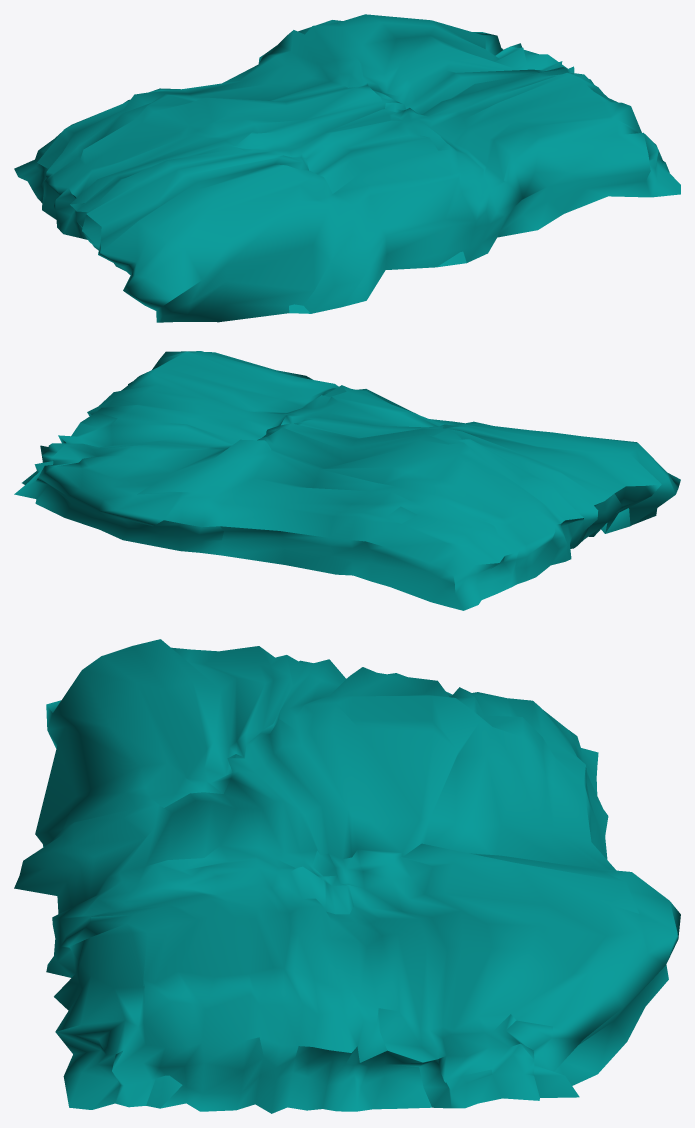
File: fol_rock_03_uv.fbx
The picture shows the model from 3 angles, top to bottom: view 1: azimuth 30°, elevation 25°; view 2: azimuth 150°, elevation 25°; view 3: azimuth 270°, elevation 25°; orthographic projection. The views are drawn at different scales.
Parts seen in each view (by area): view 1: fol_rock_03_uv; view 2: fol_rock_03_uv; view 3: fol_rock_03_uv.
Part boxes in pixels (left/top/right/bottom): fol_rock_03_uv: left=14, top=14, right=680, bottom=322; fol_rock_03_uv: left=14, top=351, right=680, bottom=610; fol_rock_03_uv: left=14, top=639, right=680, bottom=1113.
Size of the model in its own units: 17.43 by 3.44 by 12.18.
